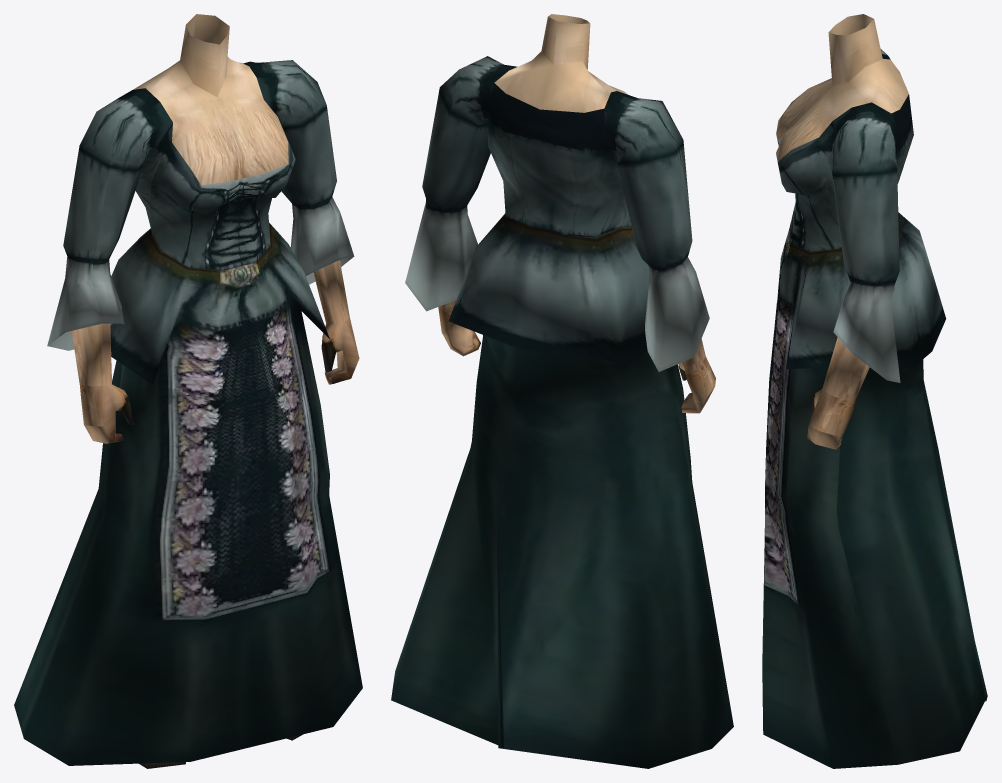
File: ARMOR_BAUBABE_M1.glb
3 views of the same model, side by side, from view 1: azimuth 30°, elevation 25°; view 2: azimuth 150°, elevation 25°; view 3: azimuth 270°, elevation 25° (orthographic). The views are drawn at different scales.
Visible parts, largest first — view 1: ARMOR_BAUBABE_M1; view 2: ARMOR_BAUBABE_M1; view 3: ARMOR_BAUBABE_M1.
Part boxes in pixels (bbox=[...]): ARMOR_BAUBABE_M1: bbox=[14, 14, 362, 768]; ARMOR_BAUBABE_M1: bbox=[391, 14, 733, 768]; ARMOR_BAUBABE_M1: bbox=[762, 14, 987, 768].
Size of the model in its own units: 0.77 by 1.65 by 0.4842.
Materials: 2 (2 with a texture image).
